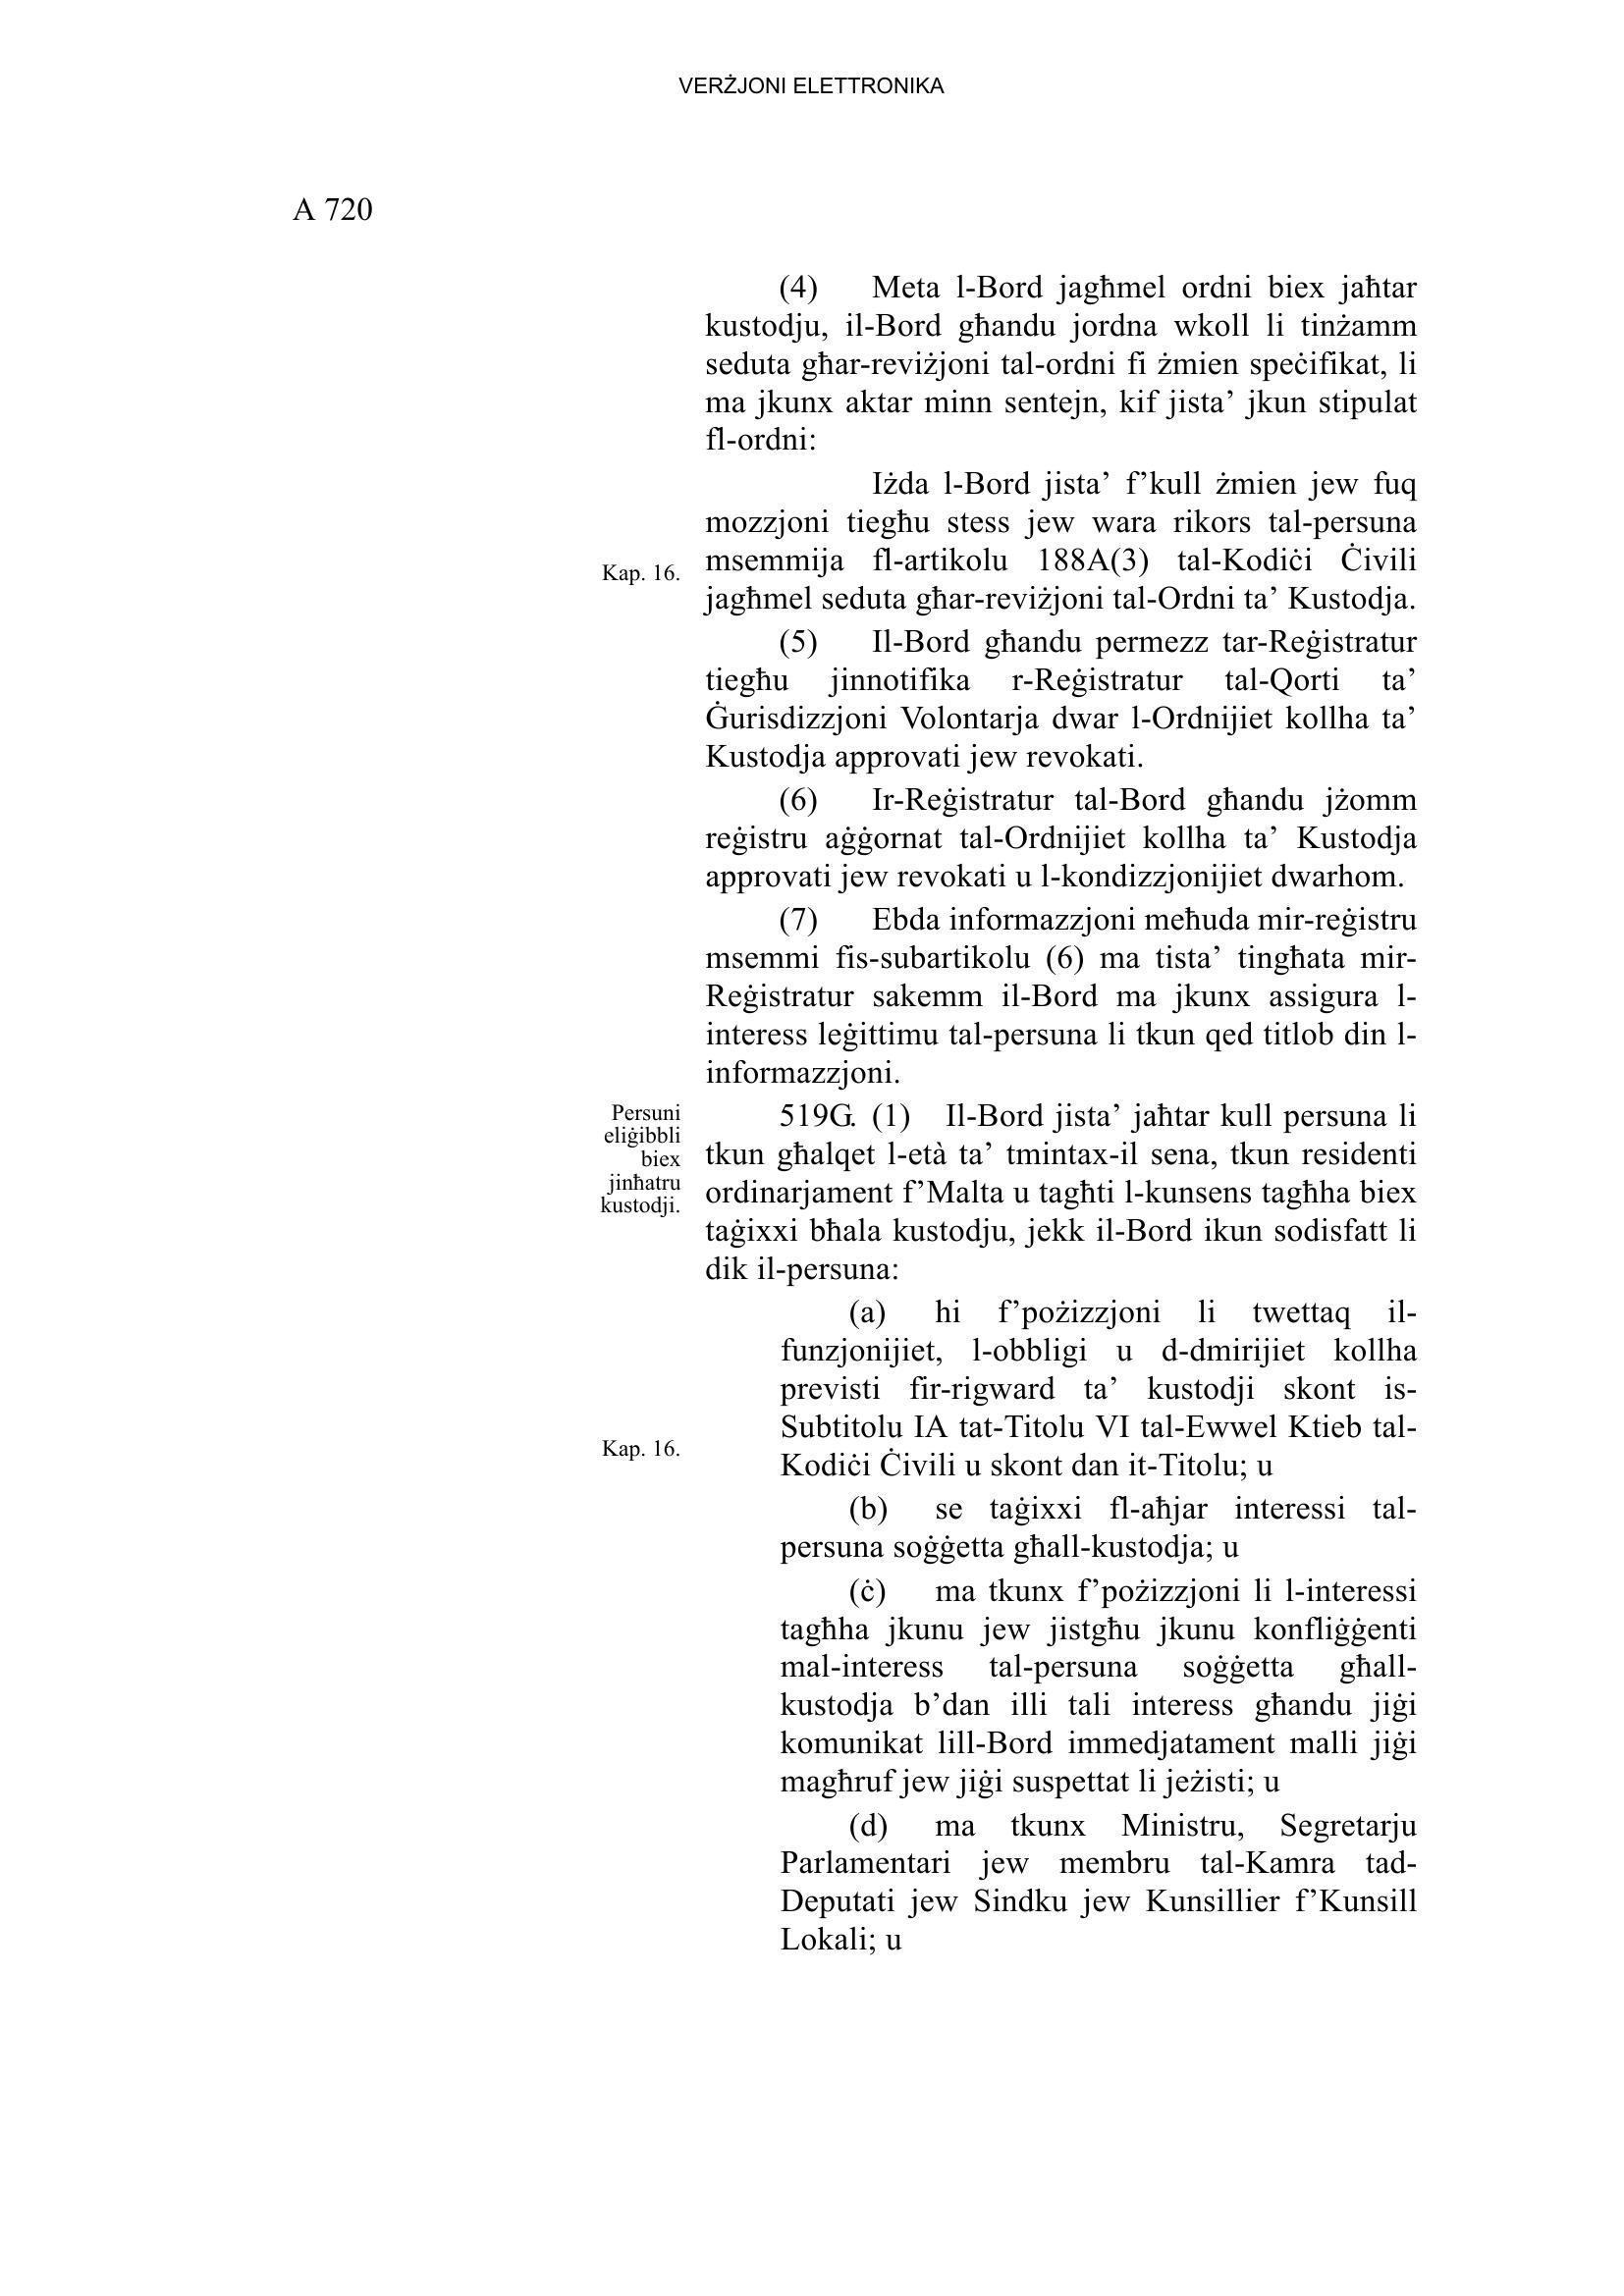text: (692, 255, 1446, 1985)
